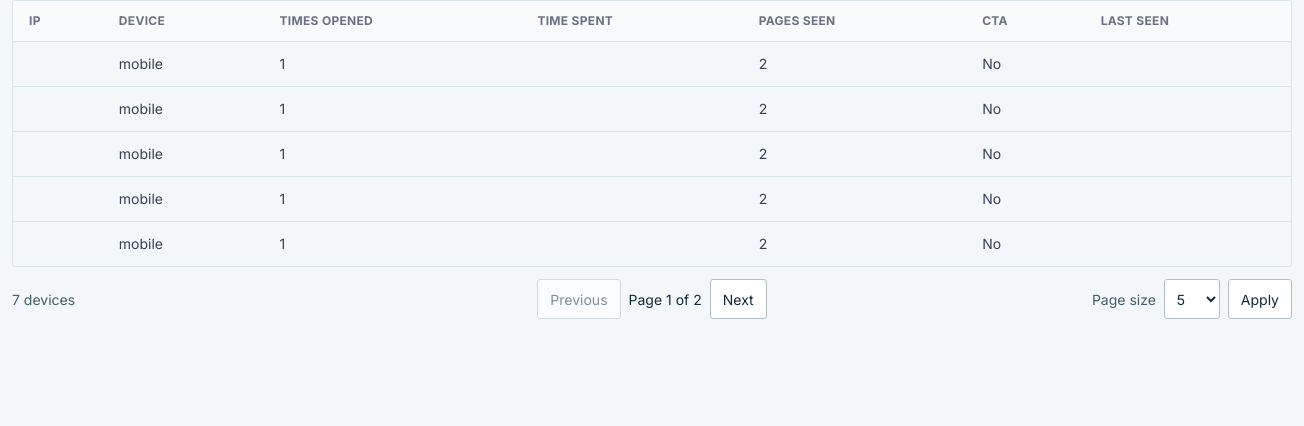
Test: ViewerAnalyticsTable (non-gated) › changes rows per page
Select "10" in the dropdown labelled "Page size": x=1192, y=299 [1164,279,1220,319]
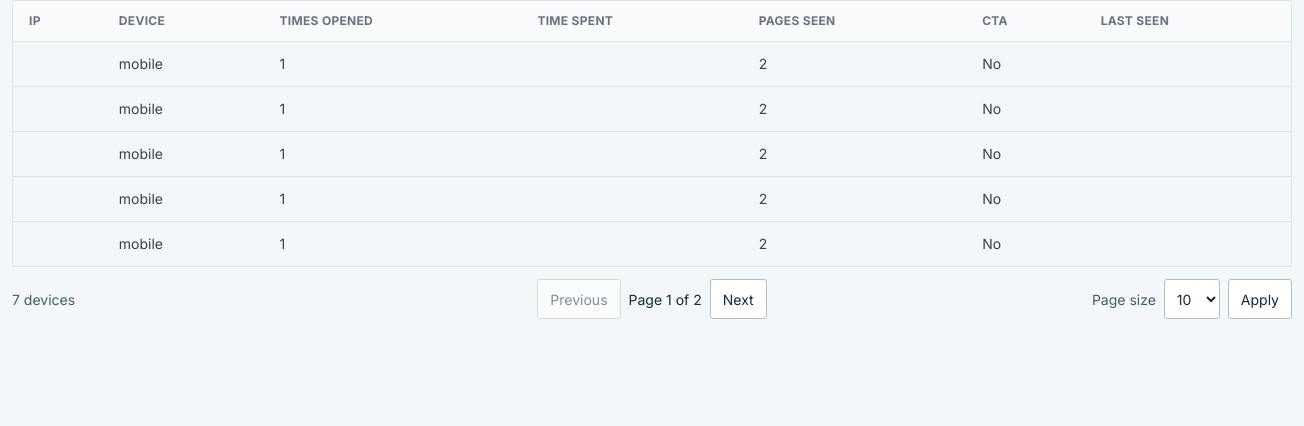
Expected: the number of buttons named "view per-page breakdown" is 5, [13,42,1291,86]; [13,86,1291,132]; [13,132,1291,176]; [13,176,1291,222]; [13,222,1291,266]
Click the button "Apply": x=1260, y=299 [1228,279,1292,319]
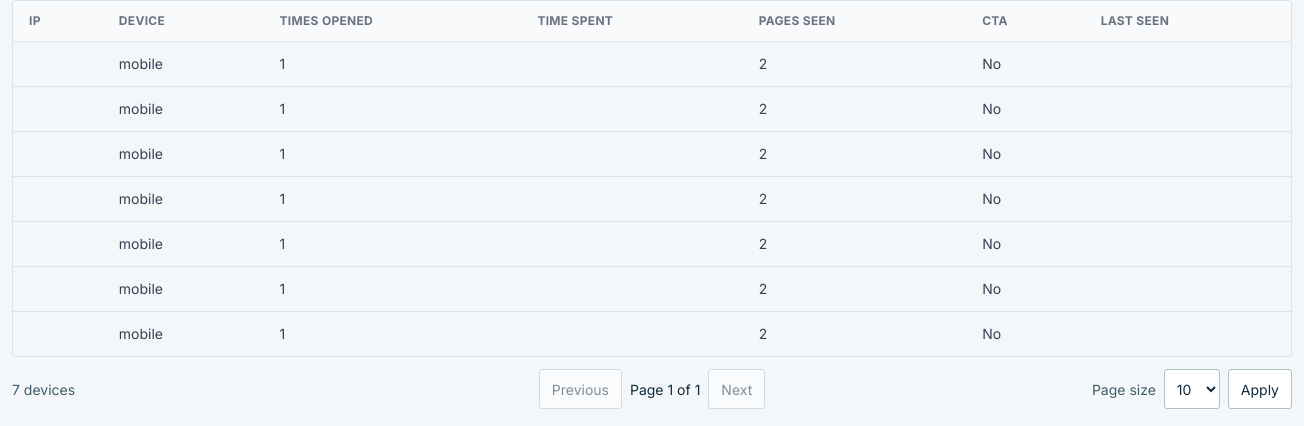
Now the number of buttons named "view per-page breakdown" is 7
Now the text "Page 1 of 1" is shown, box [630,378,700,400]
